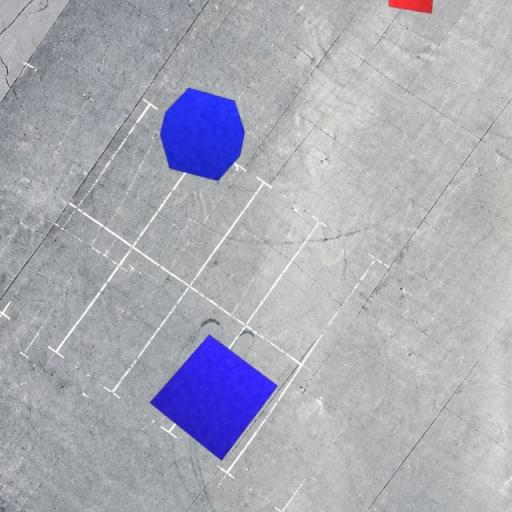BLUE_SQUARE: (149, 334, 278, 462)
